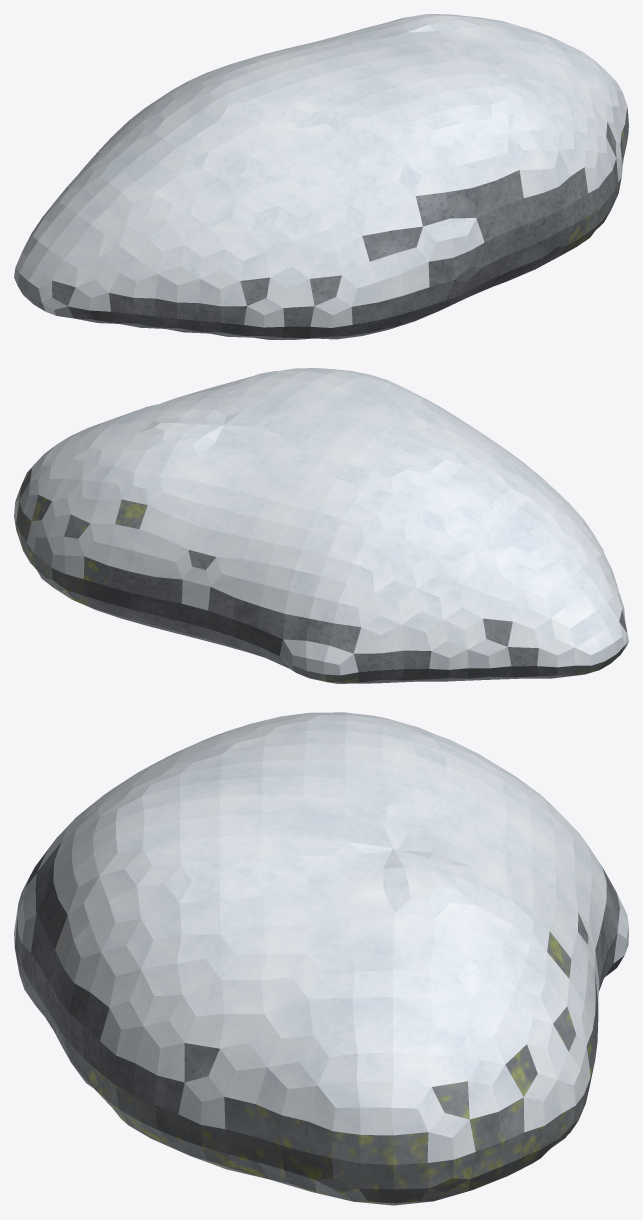
File: rock_flat_snow.glb
3 views of the same model, one above another, from view 1: azimuth 30°, elevation 25°; view 2: azimuth 150°, elevation 25°; view 3: azimuth 270°, elevation 25° (orthographic). The views are drawn at different scales.
Visible parts, largest first — view 1: wilds_rock_flat_snow; view 2: wilds_rock_flat_snow; view 3: wilds_rock_flat_snow.
Boxes of the visible parts, x1,y1,x2,y2 form: wilds_rock_flat_snow: (14,14,628,339); wilds_rock_flat_snow: (14,368,628,683); wilds_rock_flat_snow: (14,712,628,1205).
Size of the model in its own units: 1.36 by 0.4281 by 0.8706.
1 material, 1 textured.
